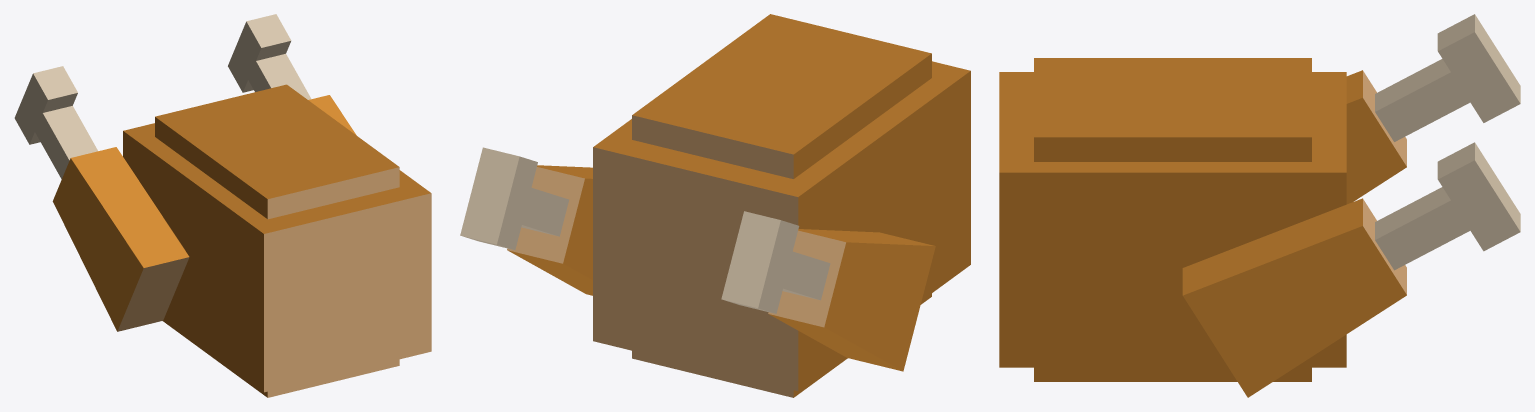
Rendered from Item_Chicken.FBX.
The picture shows the model from 3 angles, left to right: view 1: azimuth 30°, elevation 25°; view 2: azimuth 150°, elevation 25°; view 3: azimuth 270°, elevation 25°; orthographic projection. The views are drawn at different scales.
Visible parts, largest first — view 1: Item_Chicken; view 2: Item_Chicken; view 3: Item_Chicken.
Boxes of the visible parts, x1,y1,x2,y2 form: Item_Chicken: [14, 14, 431, 397]; Item_Chicken: [460, 14, 970, 397]; Item_Chicken: [999, 14, 1520, 397].
Bounding box in the file's own units: 4.34 × 3.32 × 6.14.
